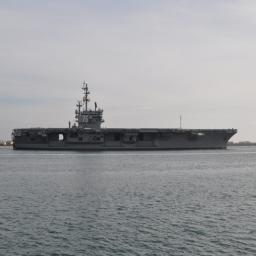Portanaves: (13, 81, 240, 153)
